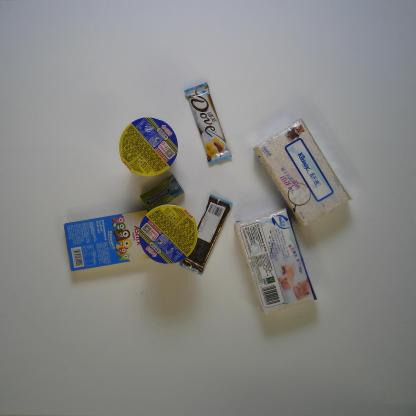Chocolate: (180, 194, 237, 276), (182, 80, 231, 164)
Dessert: (60, 208, 148, 274)
Gum: (139, 174, 185, 212)
Instant Noodles: (117, 114, 177, 179), (138, 202, 199, 265)
Tissue: (252, 117, 353, 228), (233, 209, 319, 315)
